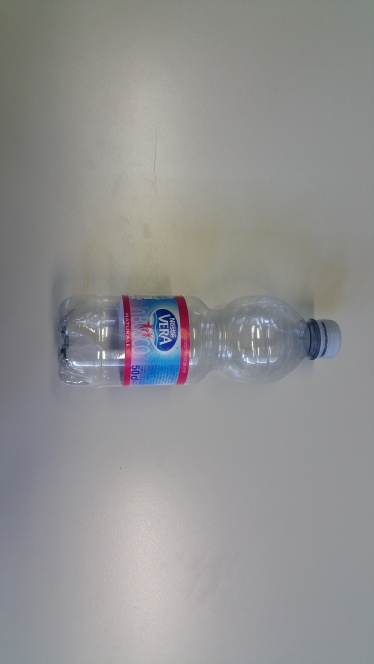bottle: (52, 288, 354, 393)
